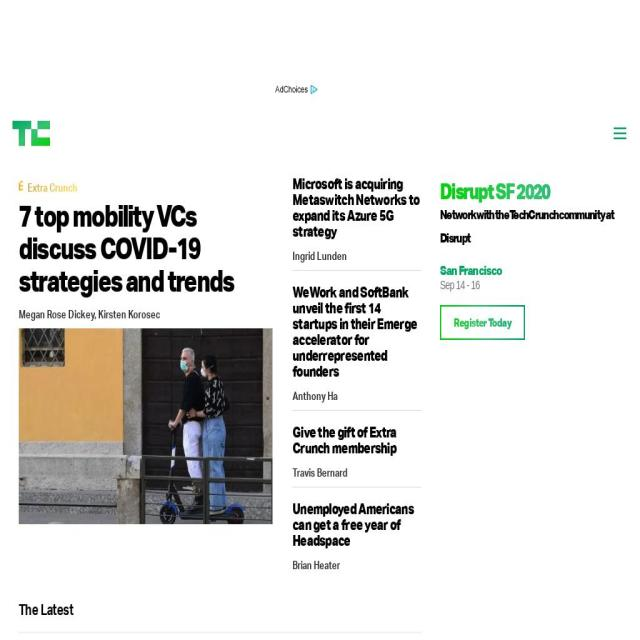button: (440, 179, 628, 203), (440, 305, 525, 340), (12, 121, 50, 146), (272, 83, 320, 96)
heading: (18, 197, 234, 298), (292, 282, 417, 380), (292, 174, 420, 240), (19, 601, 421, 618), (292, 499, 414, 549), (440, 179, 628, 203), (292, 422, 397, 457)
iframe: (92, 8, 548, 84), (440, 596, 627, 640)
image: (19, 328, 272, 524), (12, 121, 50, 146), (272, 83, 320, 96), (612, 125, 628, 142), (19, 179, 31, 197)
link: (19, 307, 94, 321), (98, 307, 160, 321), (292, 249, 347, 263), (292, 466, 347, 479), (292, 558, 340, 572), (292, 389, 337, 403)
text: (440, 206, 614, 246), (440, 278, 628, 292), (28, 176, 78, 197), (440, 262, 502, 278), (94, 307, 98, 321)
